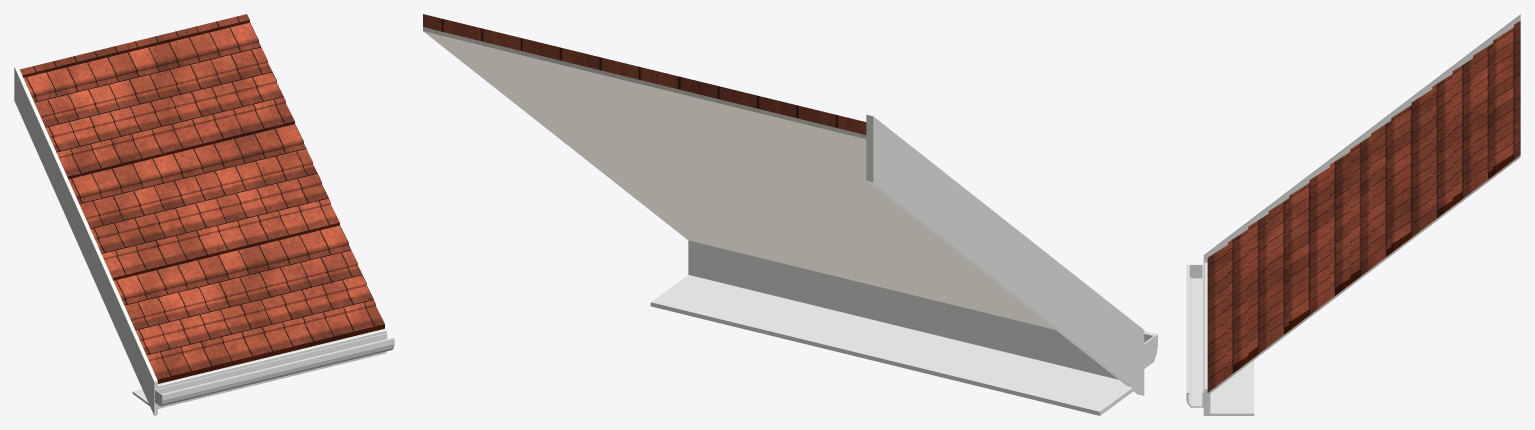
Rendered from groof_eave_a.glb.
The picture shows the model from 3 angles, left to right: view 1: azimuth 30°, elevation 25°; view 2: azimuth 150°, elevation 25°; view 3: azimuth 270°, elevation 25°; orthographic projection. The views are drawn at different scales.
Visible parts, largest first — view 1: groof_eave_a_shingles, groof_eave_a_trim, groof_eave_a_gutter; view 2: groof_eave_a_plaster, groof_eave_a_trim, groof_eave_a_shingles; view 3: groof_eave_a_shingles, groof_eave_a_trim, groof_eave_a_gutter, groof_eave_a_plaster.
Boxes of the visible parts, left/top/right/bottom form: groof_eave_a_shingles: left=19, top=14, right=384, bottom=383; groof_eave_a_trim: left=14, top=66, right=386, bottom=415; groof_eave_a_gutter: left=155, top=333, right=394, bottom=406; groof_eave_a_plaster: left=423, top=27, right=1055, bottom=329; groof_eave_a_trim: left=650, top=114, right=1144, bottom=415; groof_eave_a_shingles: left=423, top=14, right=866, bottom=134; groof_eave_a_shingles: left=1207, top=21, right=1520, bottom=392; groof_eave_a_trim: left=1203, top=14, right=1520, bottom=415; groof_eave_a_gutter: left=1186, top=264, right=1203, bottom=407; groof_eave_a_plaster: left=1207, top=155, right=1520, bottom=394.
Bounding box in the file's own units: 2.28 × 2.32 × 2.51.
Materials: 4 (2 with a texture image).
